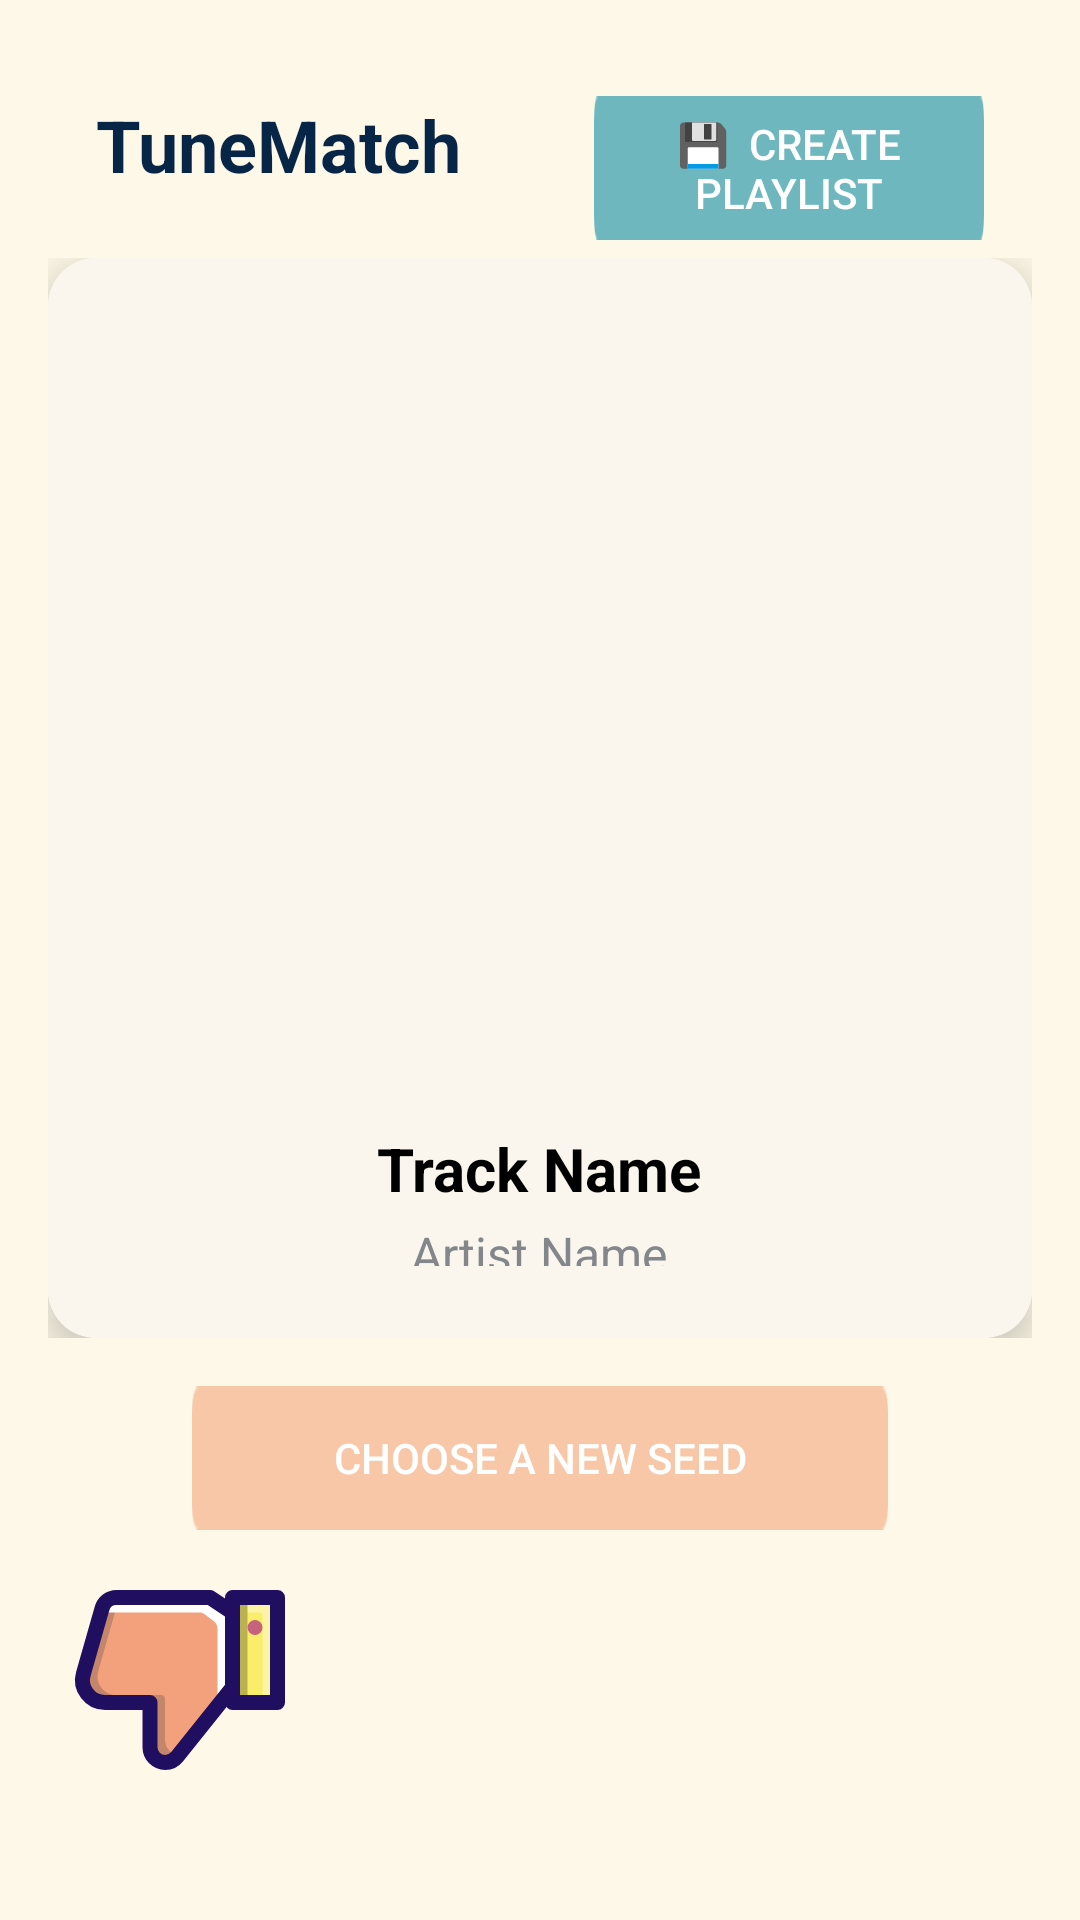

Where icons sit on this 1080w x 1920h app screen, as box(x1, y1, x2, y2):
Dislike: box(75, 1590, 285, 1770)
